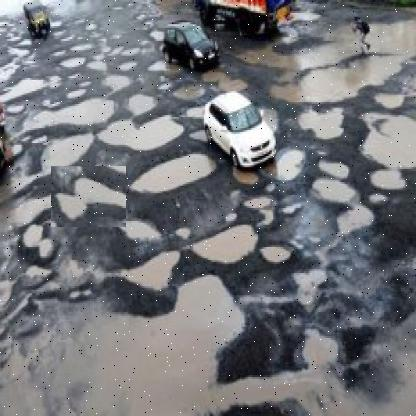pothole_water: (183, 210, 270, 271)
pothole_water_m: (85, 100, 190, 158), (50, 166, 126, 228)
